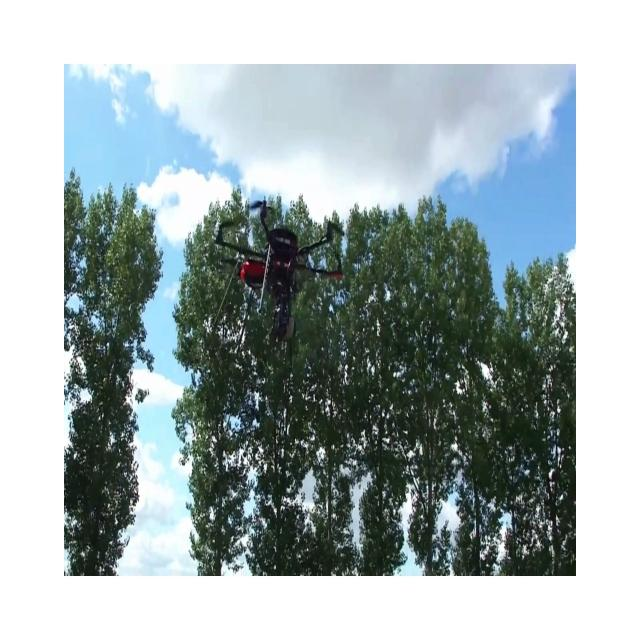drone: (211, 195, 345, 347)
